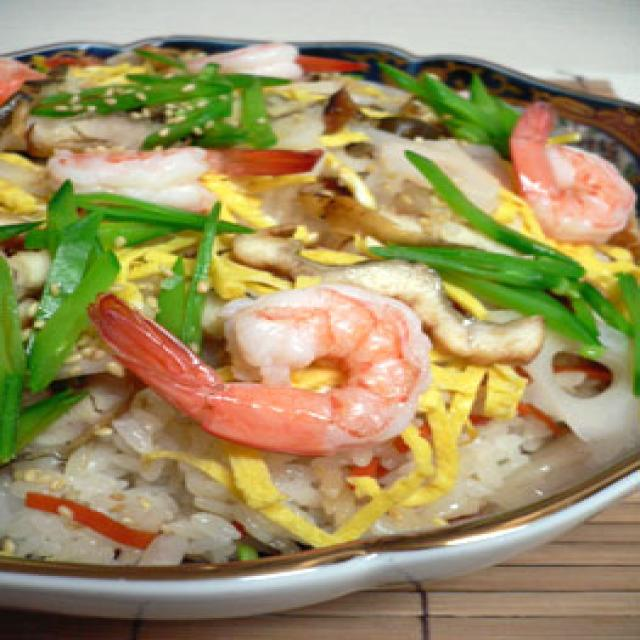寿司卷物: (0, 20, 640, 580)
